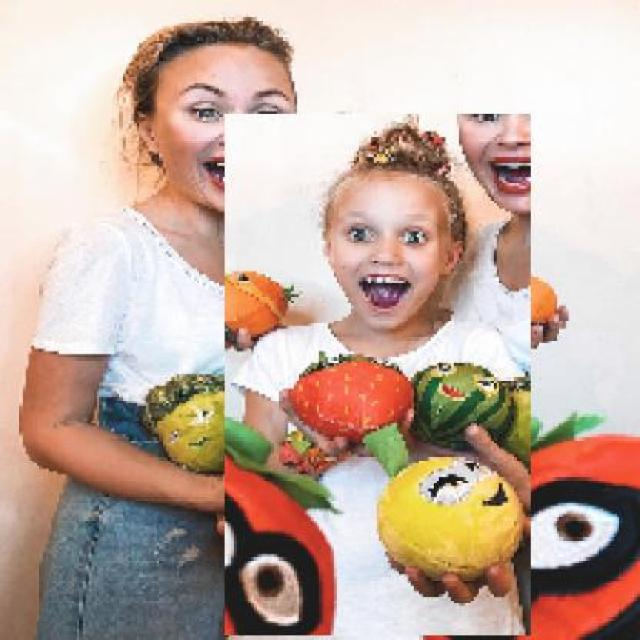child: (223, 114, 531, 637)
